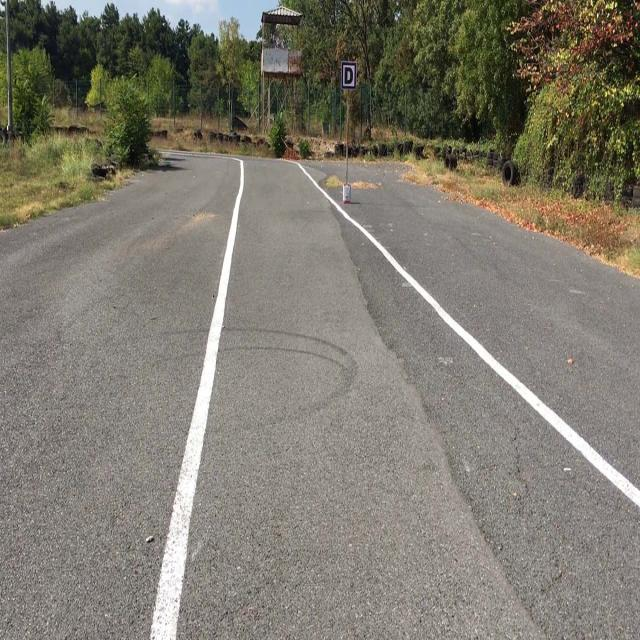durak: (342, 61, 356, 88)
